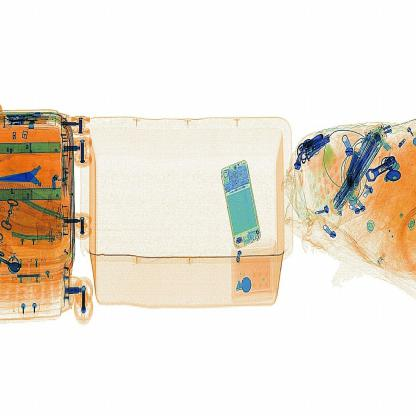gun: (2, 158, 66, 202)
